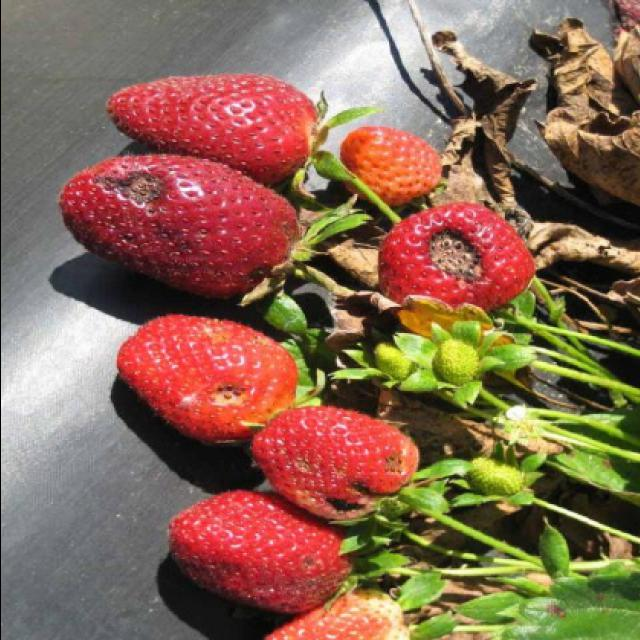Anthracnose Fruit Rot: (103, 170, 169, 202), (436, 227, 468, 277), (325, 489, 360, 515), (213, 385, 239, 415), (385, 451, 407, 473)
